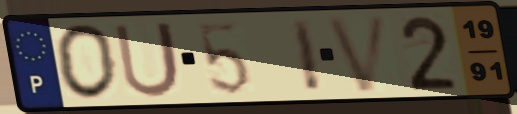2: (397, 11, 461, 94)
5: (194, 19, 255, 96)
I: (288, 16, 326, 95)
O: (52, 22, 121, 102)
U: (111, 19, 184, 100)
V: (322, 12, 392, 95)
